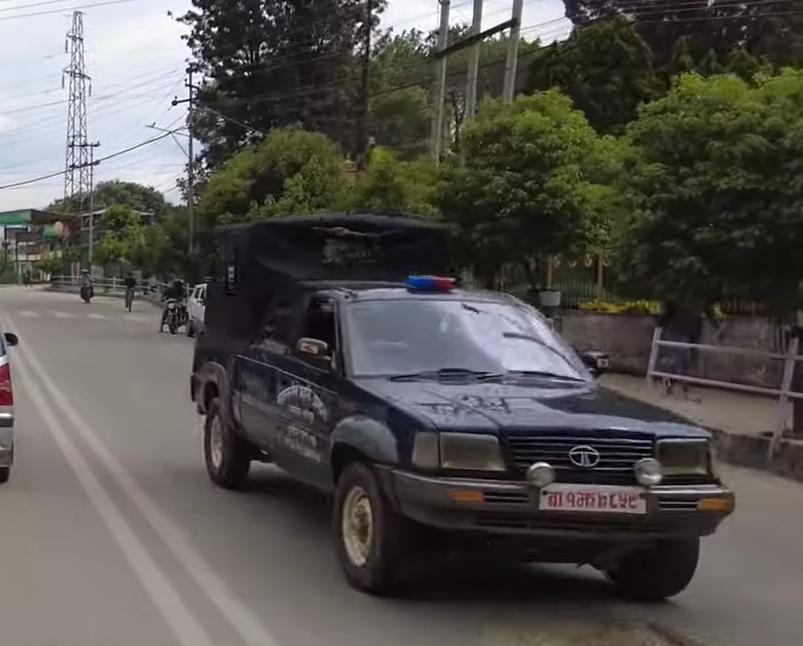police_vehicle: (189, 203, 744, 616)
